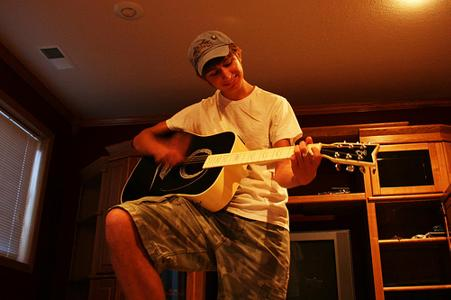person: (105, 30, 322, 300)
